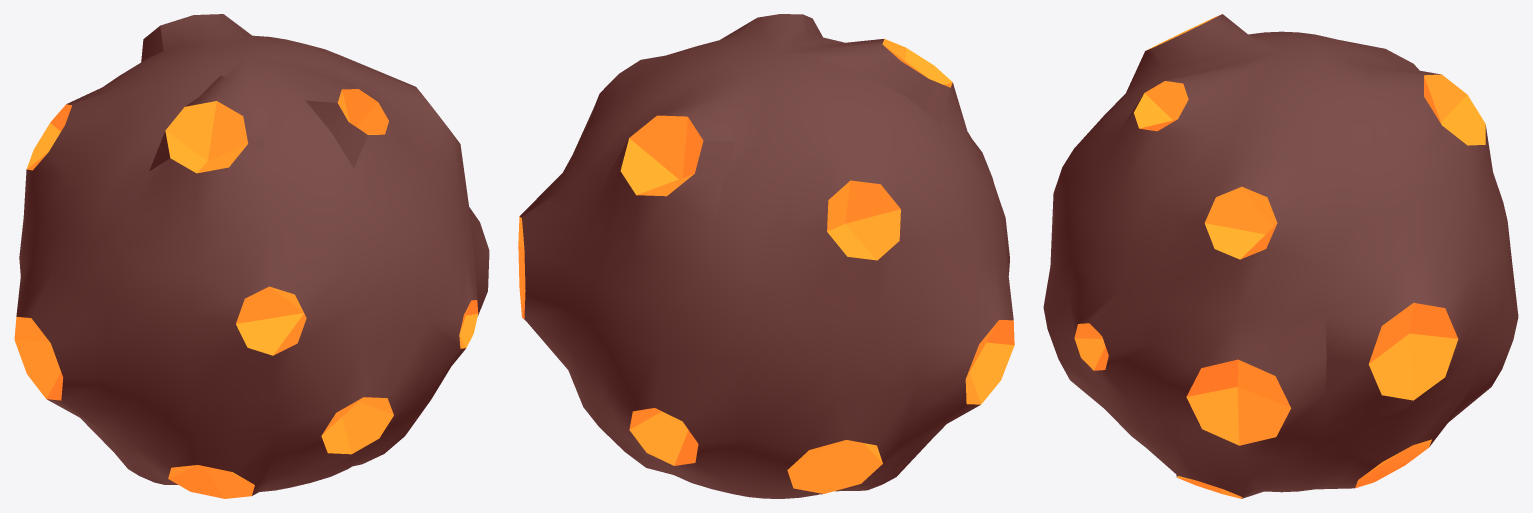
Rendered from rockEnemy.fbx.
The picture shows the model from 3 angles, left to right: view 1: azimuth 30°, elevation 25°; view 2: azimuth 150°, elevation 25°; view 3: azimuth 270°, elevation 25°; orthographic projection. The views are drawn at different scales.
Visible parts, largest first — view 1: Esfera.001; view 2: Esfera.001; view 3: Esfera.001.
Part boxes in pixels (box(x1,y1,x2,y2)): Esfera.001: box(14, 14, 489, 498); Esfera.001: box(518, 14, 1014, 498); Esfera.001: box(1043, 14, 1518, 498).
Bounding box in the file's own units: 1791 × 1645 × 1695.
